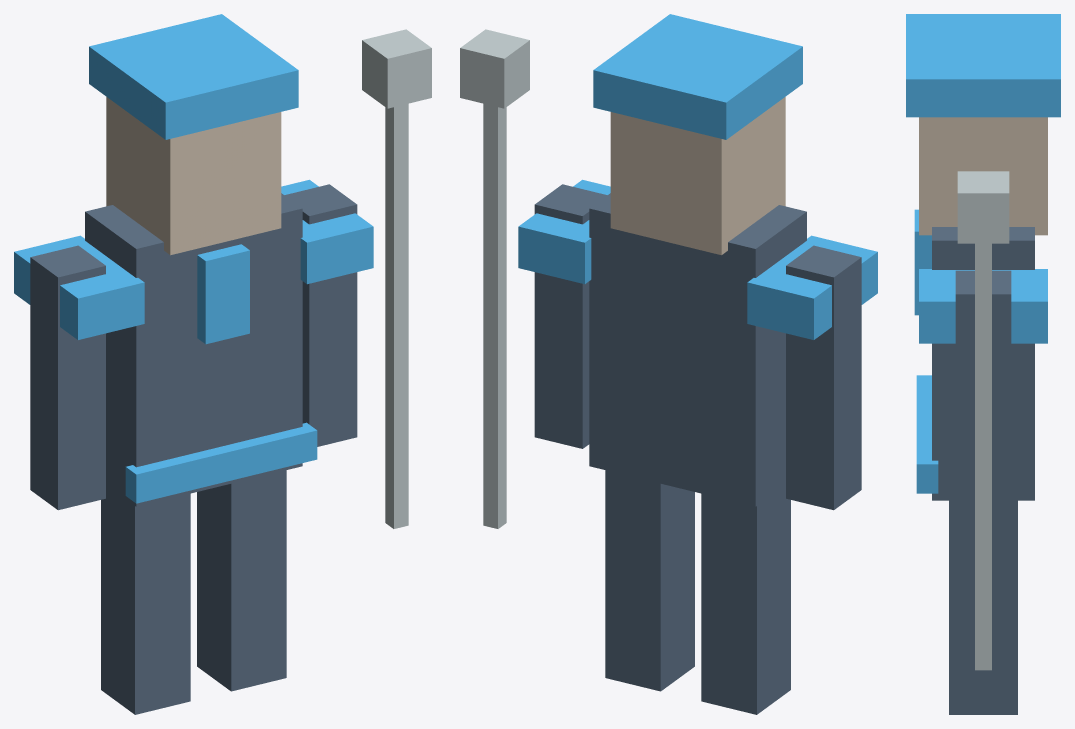
Rendered from 02_lyric_gravesong_captain_under_maintenance.glb.
3 views of the same model, side by side, from view 1: azimuth 30°, elevation 25°; view 2: azimuth 150°, elevation 25°; view 3: azimuth 270°, elevation 25° (orthographic).
Parts seen in each view (by area): view 1: Lyric Gravesong, Captain under Maintenance; view 2: Lyric Gravesong, Captain under Maintenance; view 3: Lyric Gravesong, Captain under Maintenance.
Boxes of the visible parts, box(x1,y1,x2,y2) form: Lyric Gravesong, Captain under Maintenance: box(14, 14, 431, 714); Lyric Gravesong, Captain under Maintenance: box(460, 14, 877, 714); Lyric Gravesong, Captain under Maintenance: box(906, 14, 1060, 714).
Bounding box in the file's own units: 1.06 × 1.69 × 0.3751.
